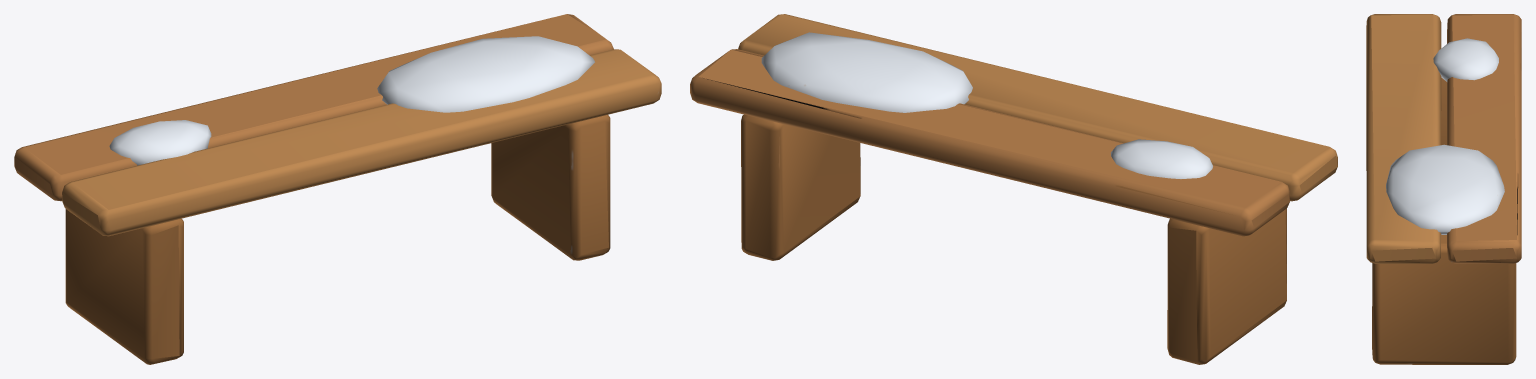
Rendered from bench.glb.
3 views of the same model, side by side, from view 1: azimuth 30°, elevation 25°; view 2: azimuth 150°, elevation 25°; view 3: azimuth 270°, elevation 25° (orthographic). The views are drawn at different scales.
Parts seen in each view (by area): view 1: leg; view 2: leg; view 3: leg.
Boxes of the visible parts, bbox=[...] form: leg: bbox=[14, 14, 661, 364]; leg: bbox=[690, 14, 1337, 364]; leg: bbox=[1366, 14, 1521, 364].
Bounding box in the file's own units: 1.9 × 0.6029 × 0.5384.
1 material, 1 textured.
